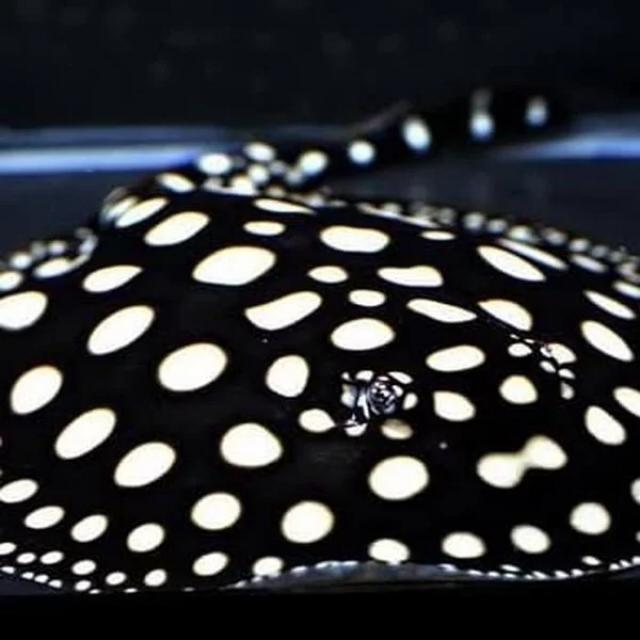black-diamond-sting-ray: (6, 6, 637, 626)
